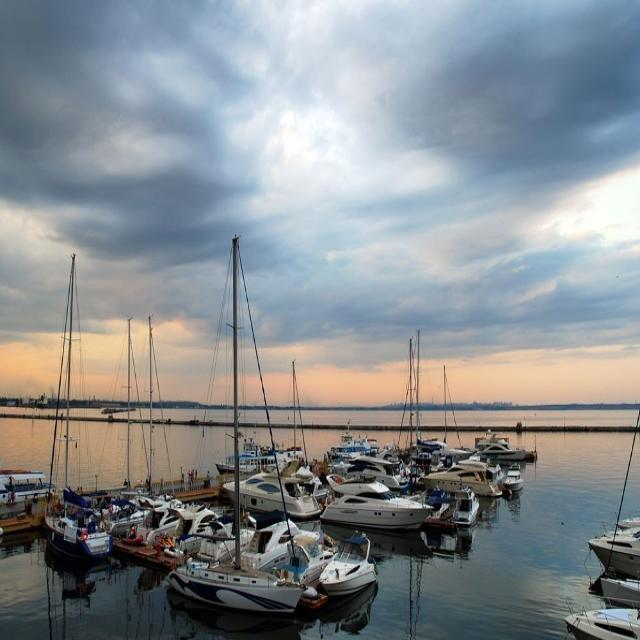passenger ship: (324, 473, 413, 528), (327, 529, 380, 616), (427, 457, 504, 500), (470, 427, 522, 456)
